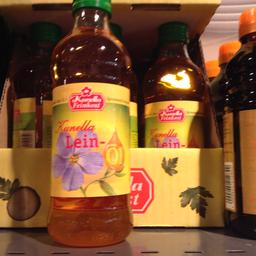oil: (48, 0, 133, 247), (140, 18, 206, 146)
